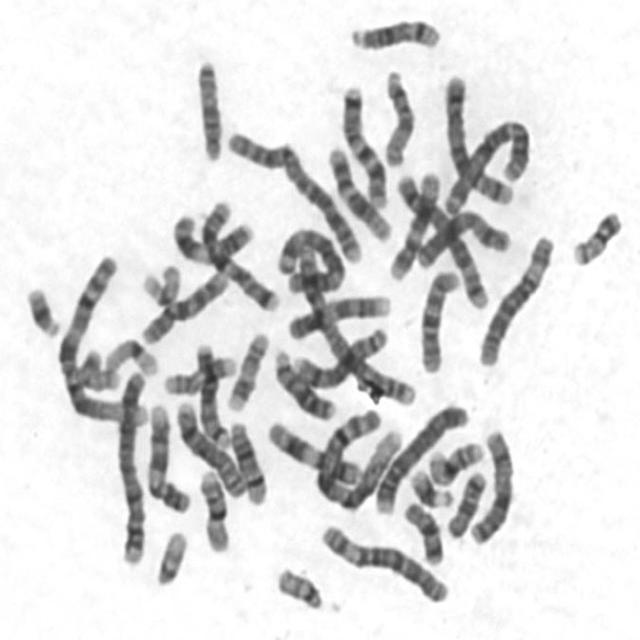A1: (51, 246, 145, 428), (308, 402, 404, 515)
A2: (286, 237, 420, 408), (220, 123, 364, 266)
A3: (438, 110, 535, 218), (273, 219, 347, 295)
B4: (368, 394, 471, 518), (110, 360, 150, 568)
B5: (389, 166, 491, 311), (438, 66, 516, 208)
C10: (134, 261, 232, 346), (413, 260, 463, 375)
C11: (260, 412, 364, 486), (166, 206, 257, 266)
C12: (320, 136, 395, 244), (382, 163, 443, 282)
C6: (471, 224, 558, 368), (314, 515, 451, 605)
C7: (195, 192, 282, 313), (335, 74, 390, 211)
C8: (169, 392, 250, 499), (288, 320, 391, 389)
C9: (139, 394, 193, 515), (282, 285, 396, 341)
D13: (268, 341, 339, 422), (190, 336, 236, 454)
D14: (342, 9, 444, 53), (222, 412, 269, 507)
D15: (376, 61, 417, 168), (190, 51, 225, 163)
E16: (192, 461, 232, 554), (422, 432, 486, 487)
E17: (219, 324, 271, 412), (158, 347, 240, 397)
E18: (441, 463, 489, 540), (397, 494, 445, 566)
F19: (100, 331, 160, 379), (134, 255, 183, 308)
F20: (564, 201, 626, 267), (71, 341, 122, 394)
G21: (19, 277, 63, 339), (404, 461, 455, 509)
G22: (269, 559, 325, 612), (148, 522, 191, 588)
X: (410, 202, 513, 272), (464, 421, 517, 546)
